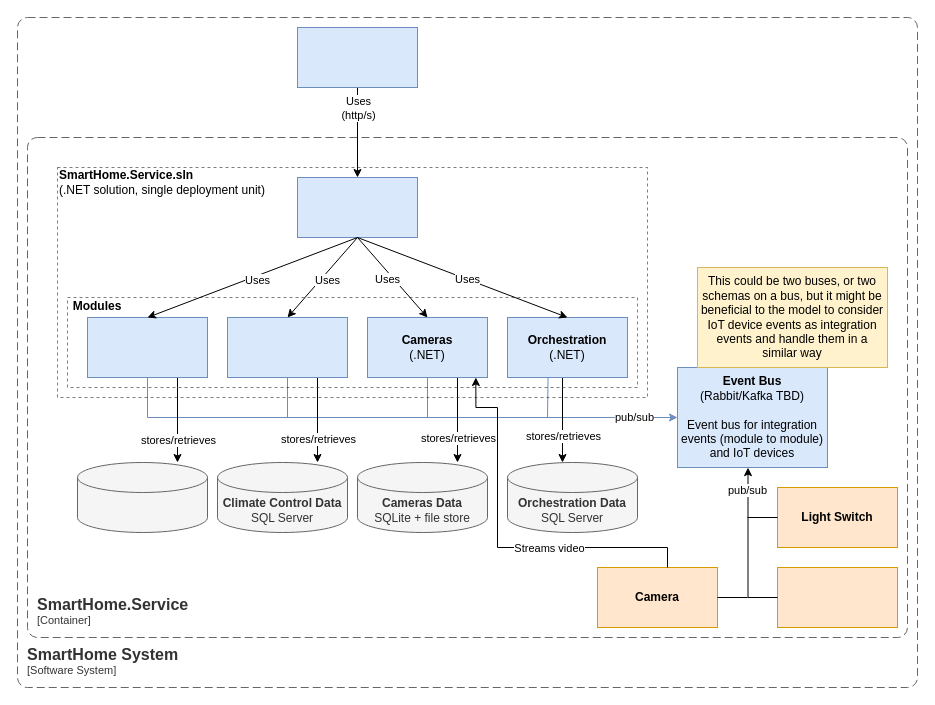
Image size: 935x705. Some labels were removed from this diagram. The centre of each missing label's shape, as x and y in pixels:
API (.NET Core API): the point at 357,207
Climate Control (.NET): the point at 287,347
SPA (Angular): the point at 357,57
Switchables (.NET): the point at 147,347
Switchables Data SQLite: the point at 142,497
Thermostat: the point at 837,597
